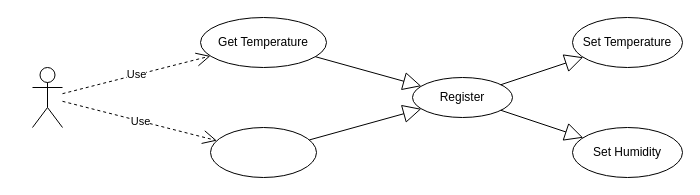
This 700x195 diagram has some shape labels left out. The centre of each missing label's shape, as x and y in pixels:
"DataCenter" goes at [47,97].
"Get Humidity" goes at [263,152].
